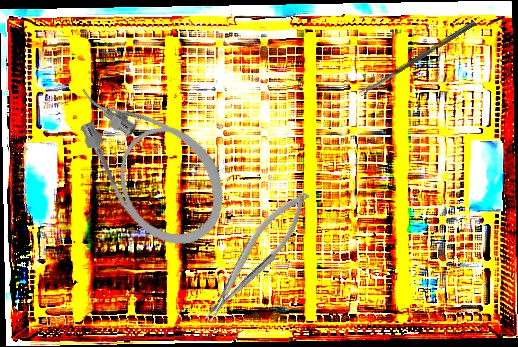Cannula: (54, 51, 246, 266)
Needle Holder: (190, 183, 321, 329)
Surgical Spoon: (358, 19, 477, 97)
